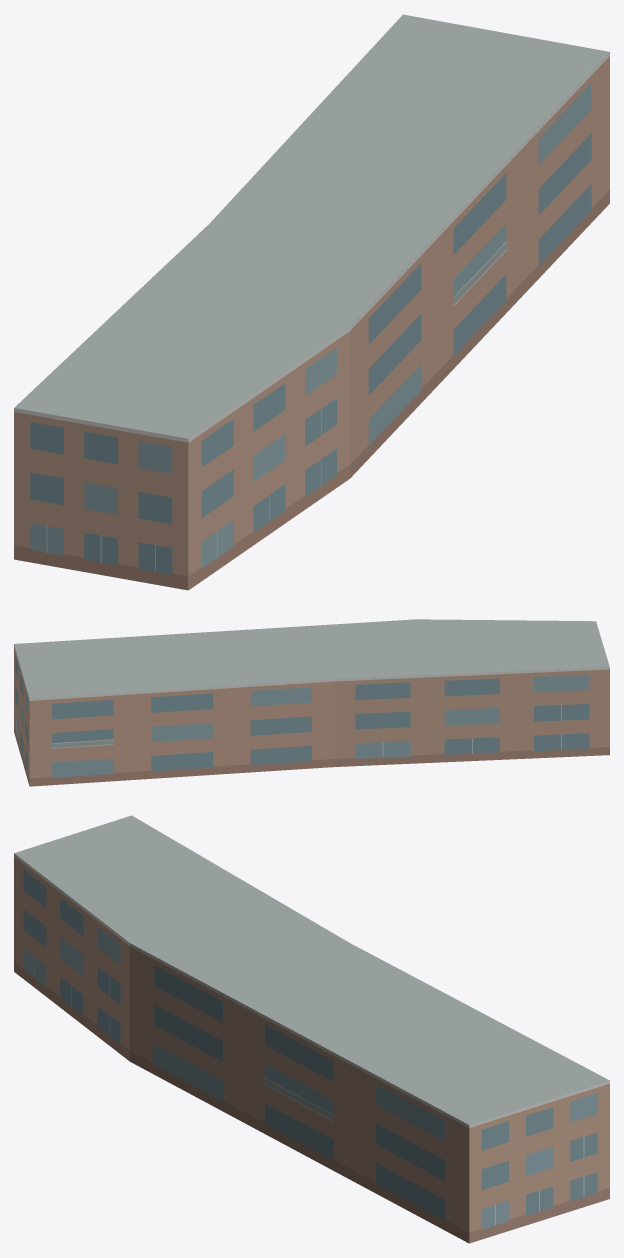
File: survey-upis-32756101.glb
3 renders of one model, top to bottom at view 1: azimuth 30°, elevation 25°; view 2: azimuth 150°, elevation 25°; view 3: azimuth 270°, elevation 25°, orthographic. The views are drawn at different scales.
Visible parts, largest first — view 1: survey-upis-32756101.tmp; view 2: survey-upis-32756101.tmp; view 3: survey-upis-32756101.tmp.
Part boxes in pixels (x1,y1,x2,y2): survey-upis-32756101.tmp: (14,14,609,590); survey-upis-32756101.tmp: (14,619,609,786); survey-upis-32756101.tmp: (14,815,609,1243).
Bounding box in the file's own units: 51.27 × 9.15 × 41.7.
